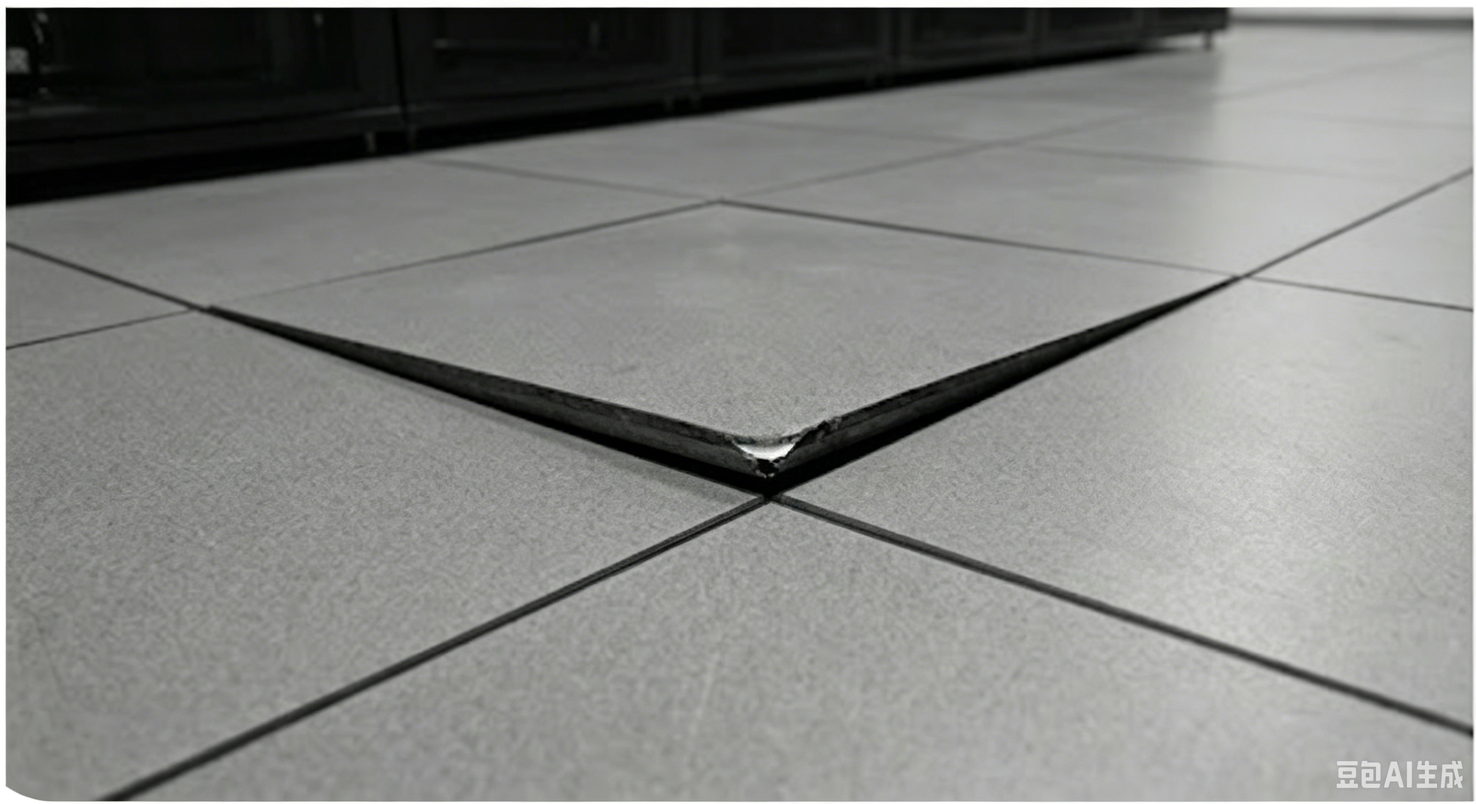floor_defect: (198, 274, 1260, 502)
